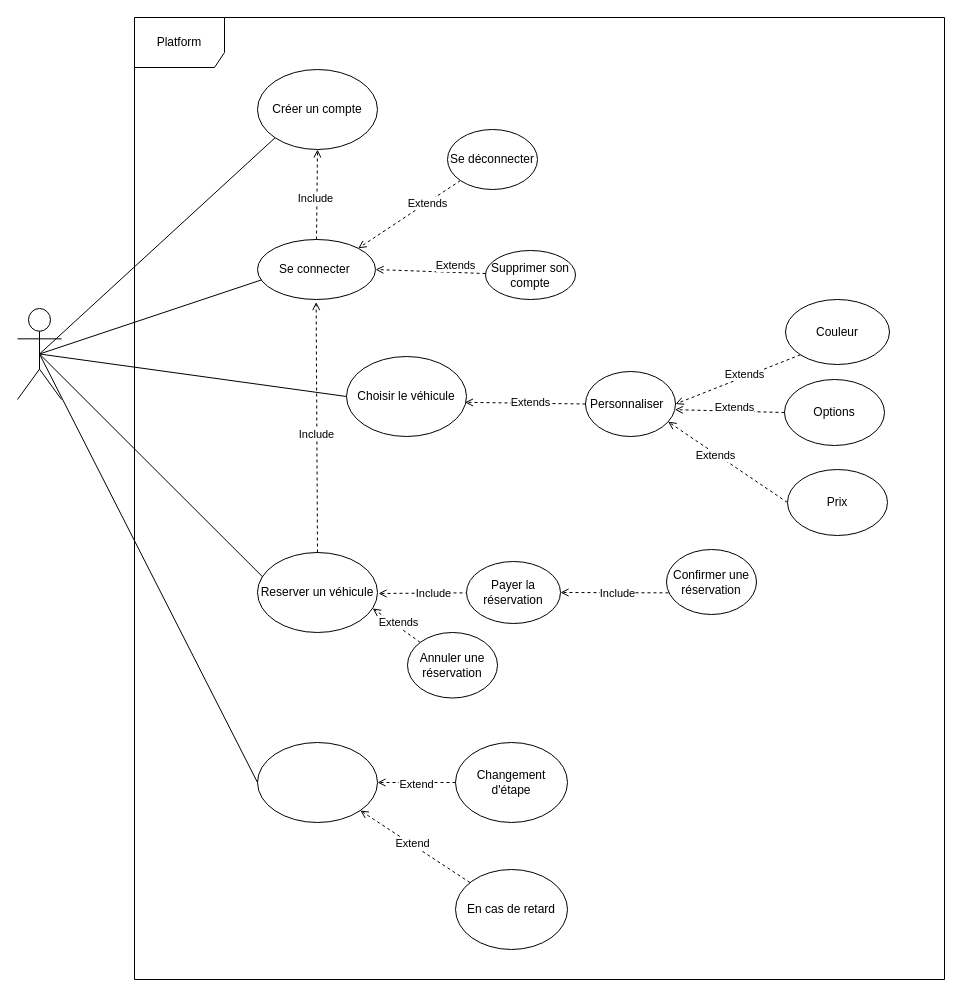
Image size: 962x997. Some labels were removed from this diagram. The shapes that lost their labels are listed below. From the top down, each one's centre as x and y in pixels, then its label:
the point at 39,354: User
the point at 317,782: Notifier le client
